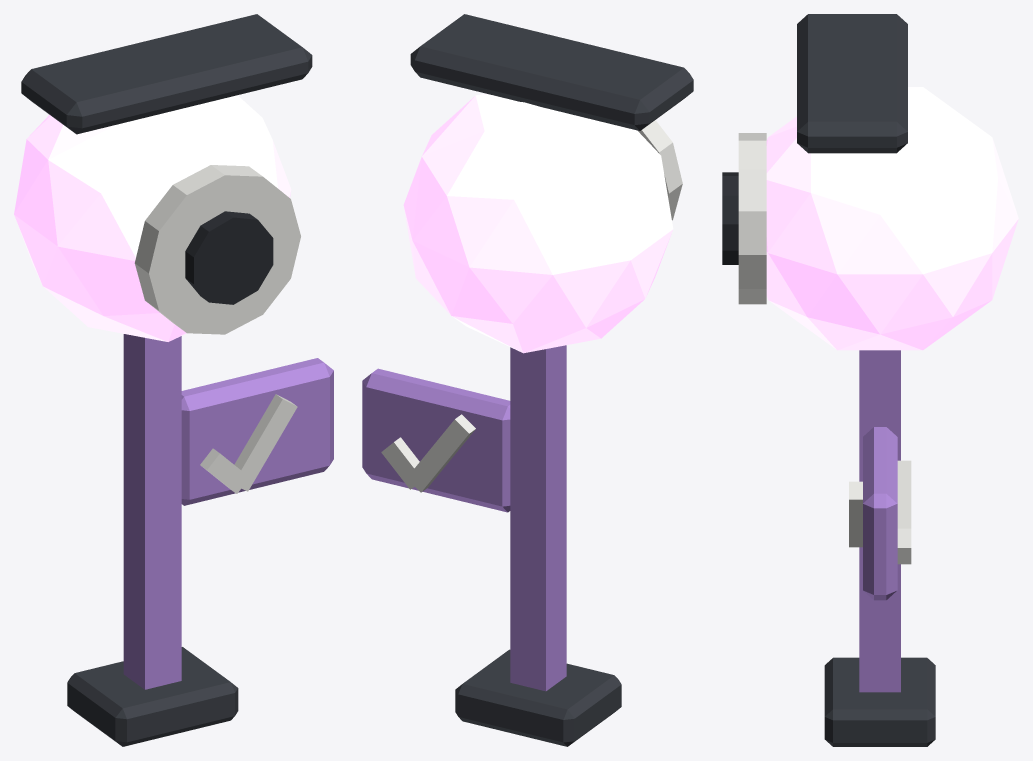
Rendered from autoreply_m2_2.glb.
3 views of the same model, side by side, from view 1: azimuth 30°, elevation 25°; view 2: azimuth 150°, elevation 25°; view 3: azimuth 270°, elevation 25° (orthographic). The views are drawn at different scales.
Visible parts, largest first — view 1: autoreply_m2_2_mesh; view 2: autoreply_m2_2_mesh; view 3: autoreply_m2_2_mesh.
Boxes of the visible parts, x1,y1,x2,y2 form: autoreply_m2_2_mesh: (14, 14, 333, 746); autoreply_m2_2_mesh: (362, 14, 693, 746); autoreply_m2_2_mesh: (722, 14, 1018, 746).
Size of the model in its own units: 0.245 by 0.52 by 0.214.
